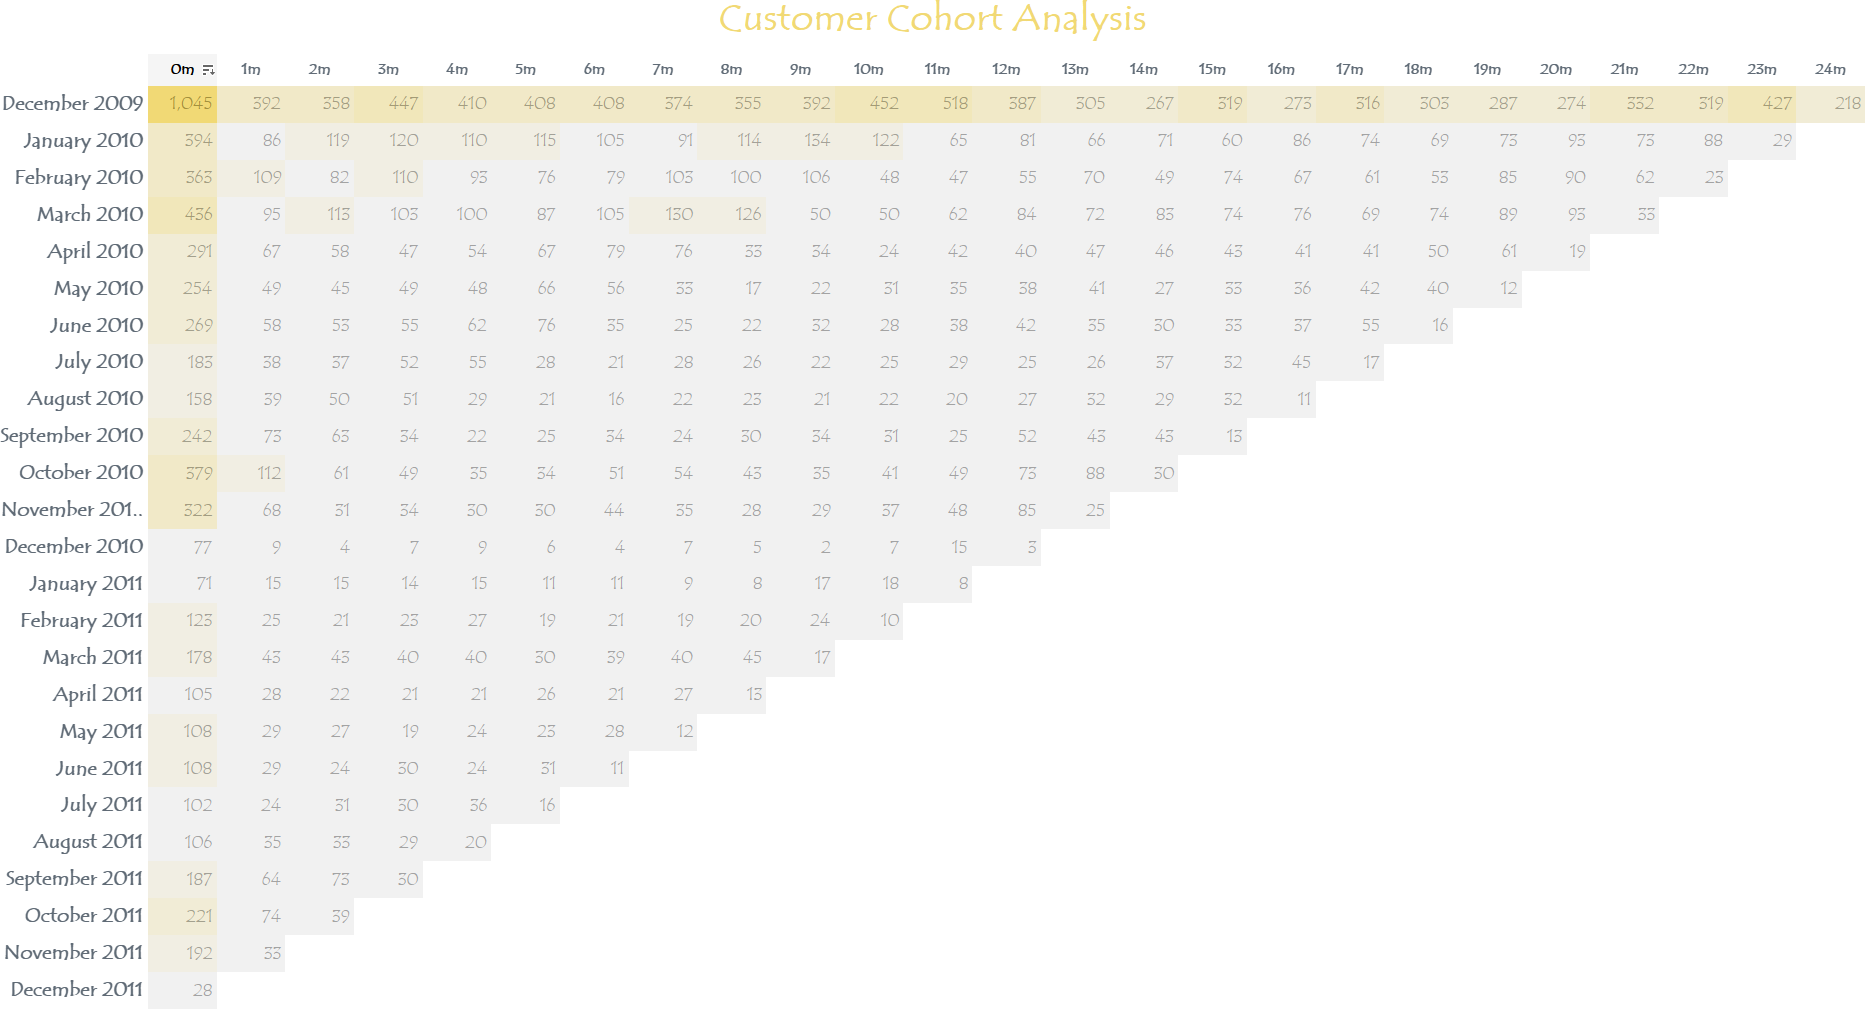

Layout of this report page (visuals, bound fields, positions):
{"tool":"tableau","page":{"name":"Cohort Analysis: Active Merchants","canvas":[1000,1000],"units":"permille","ordinal":0},"visuals":[{"type":"image","param":"Image/Logo.png","box":[4.9,9.3,201.6,112.6]},{"type":"text","box":[206.6,9.3,687.7,112.6]},{"type":"dashboard-object","box":[894.2,9.3,100.9,112.6]},{"type":"worksheet","title":"Active Cohorts","mark":"Automatic","rows":["Cohort Month"],"cols":["Cohort Index"],"box":[4.9,121.9,990.2,868.9]}]}

Visuals, with their boxes on the dashboard's canvas, which has no fixed pixel size, in thousandths of its width and height (x1, y1, x2, y2). These are canvas units, not pixel positions in the 1870x1015 screenshot, which may show the page scaled, cropped or inside an application window:
image: [x1=5, y1=9, x2=206, y2=122]
text: [x1=207, y1=9, x2=894, y2=122]
dashboard-object: [x1=894, y1=9, x2=995, y2=122]
"Active Cohorts" worksheet: [x1=5, y1=122, x2=995, y2=991]
